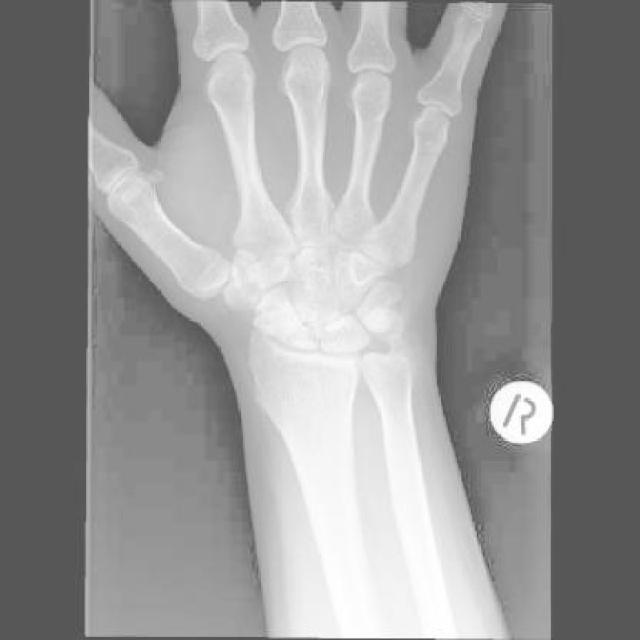Fracture: (276, 320, 307, 348)
